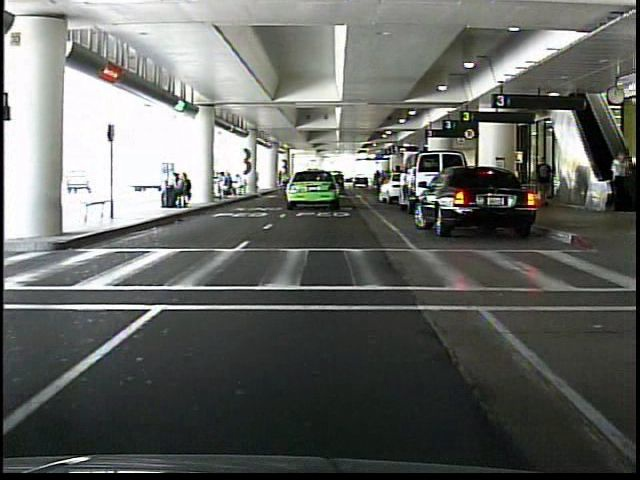person: (607, 147, 631, 211), (534, 154, 557, 212)
